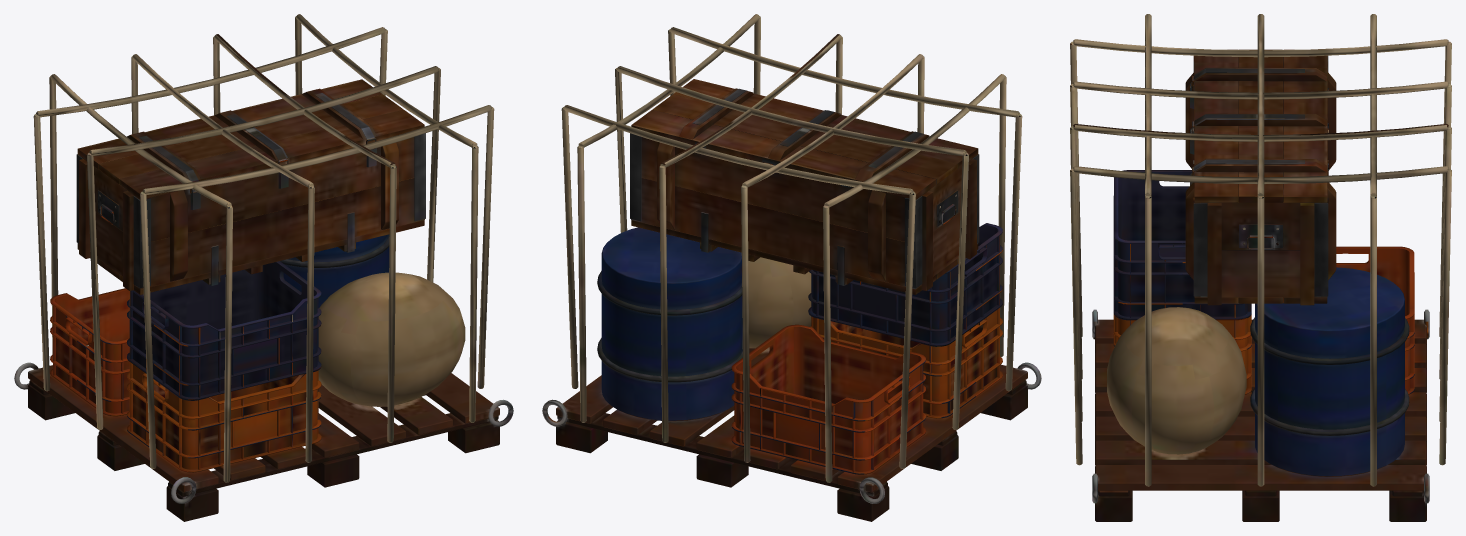
The model's file is cargo_net_pile.glb.
3 views of the same model, side by side, from view 1: azimuth 30°, elevation 25°; view 2: azimuth 150°, elevation 25°; view 3: azimuth 270°, elevation 25° (orthographic). The views are drawn at different scales.
Visible parts, largest first — view 1: cargo_net_pile; view 2: cargo_net_pile; view 3: cargo_net_pile.
Boxes of the visible parts, <box> form: cargo_net_pile: <box>14,14,513,521</box>; cargo_net_pile: <box>542,14,1041,521</box>; cargo_net_pile: <box>1070,14,1451,521</box>.
Size of the model in its own units: 1.38 by 1.19 by 1.22.
1 material, 1 textured.
